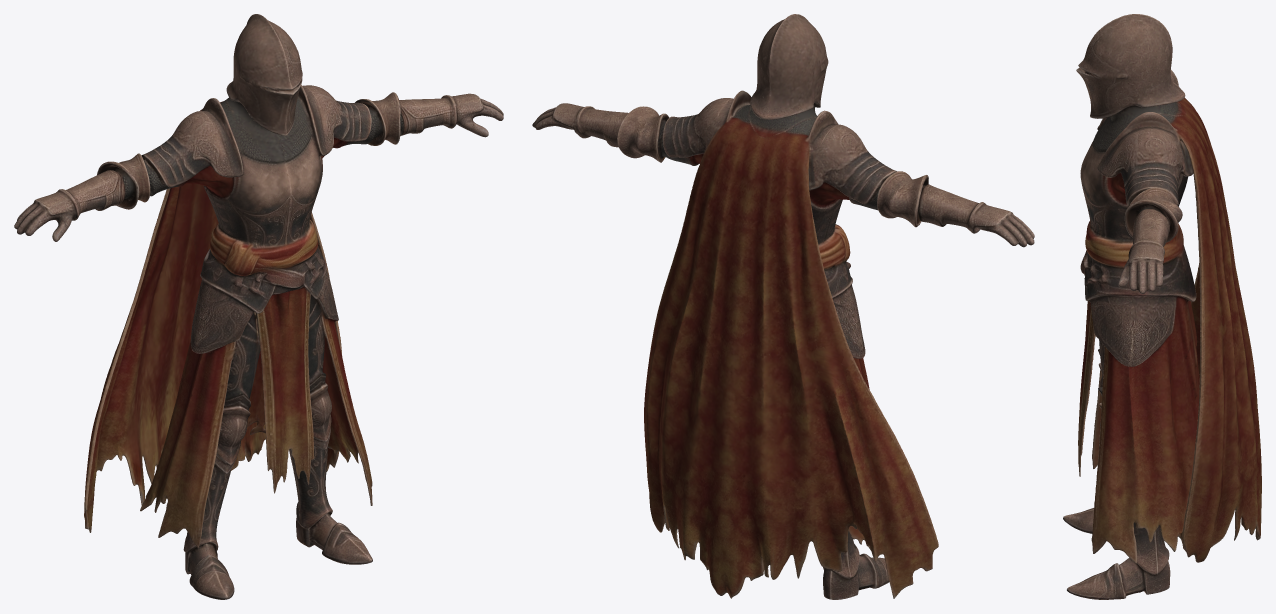
The model's file is Meshy_AI_Crimson_Iron_Sentinel_20261027_texture.fbx.
3 renders of one model, left to right at view 1: azimuth 30°, elevation 25°; view 2: azimuth 150°, elevation 25°; view 3: azimuth 270°, elevation 25°, orthographic. The views are drawn at different scales.
Parts seen in each view (by area): view 1: Mesh_0; view 2: Mesh_0; view 3: Mesh_0.
Boxes of the visible parts, left/top/right/bottom form: Mesh_0: left=14, top=14, right=503, bottom=599; Mesh_0: left=532, top=14, right=1034, bottom=599; Mesh_0: left=1063, top=14, right=1261, bottom=599.
Bounding box in the file's own units: 178 × 190 × 62.72.
1 material, 1 textured.
